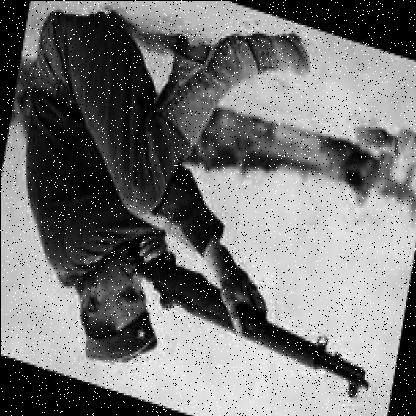rifle: (112, 222, 386, 410)
